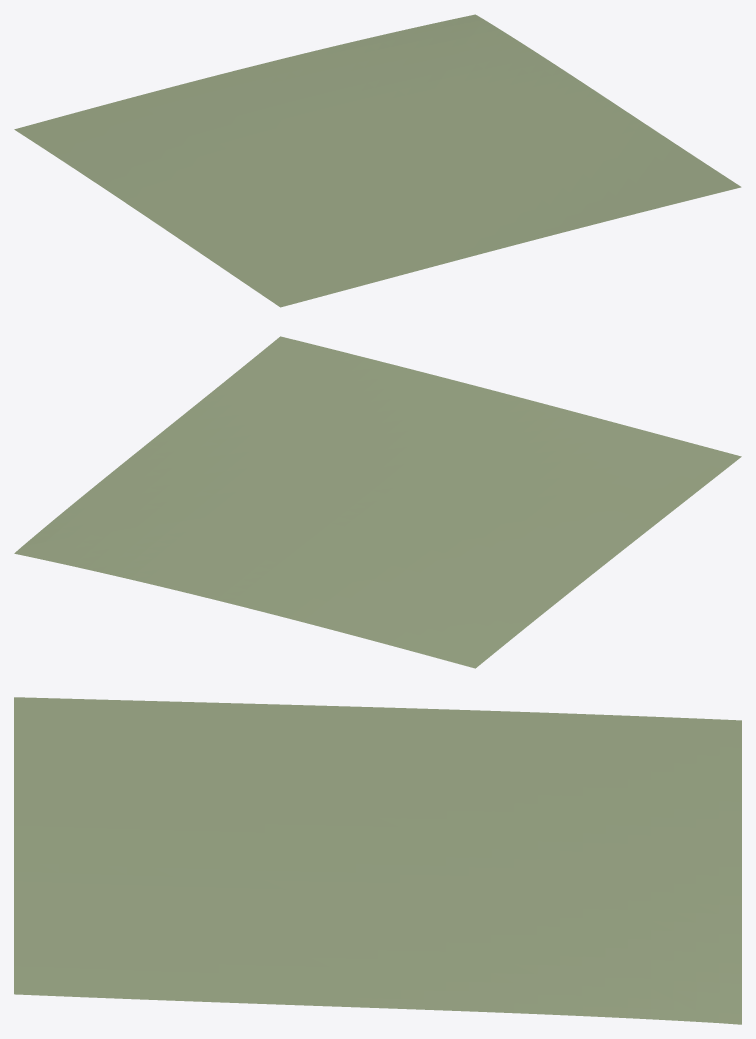
Rendered from expanse-6-9.glb.
The picture shows the model from 3 angles, top to bottom: view 1: azimuth 30°, elevation 25°; view 2: azimuth 150°, elevation 25°; view 3: azimuth 270°, elevation 25°; orthographic projection. The views are drawn at different scales.
Parts seen in each view (by area): view 1: expanse-6-9; view 2: expanse-6-9; view 3: expanse-6-9.
Part boxes in pixels (bbox=[...]): expanse-6-9: bbox=[14, 14, 741, 307]; expanse-6-9: bbox=[14, 336, 741, 668]; expanse-6-9: bbox=[14, 697, 741, 1024].
Size of the model in its own units: 256 by 13.06 by 256.
